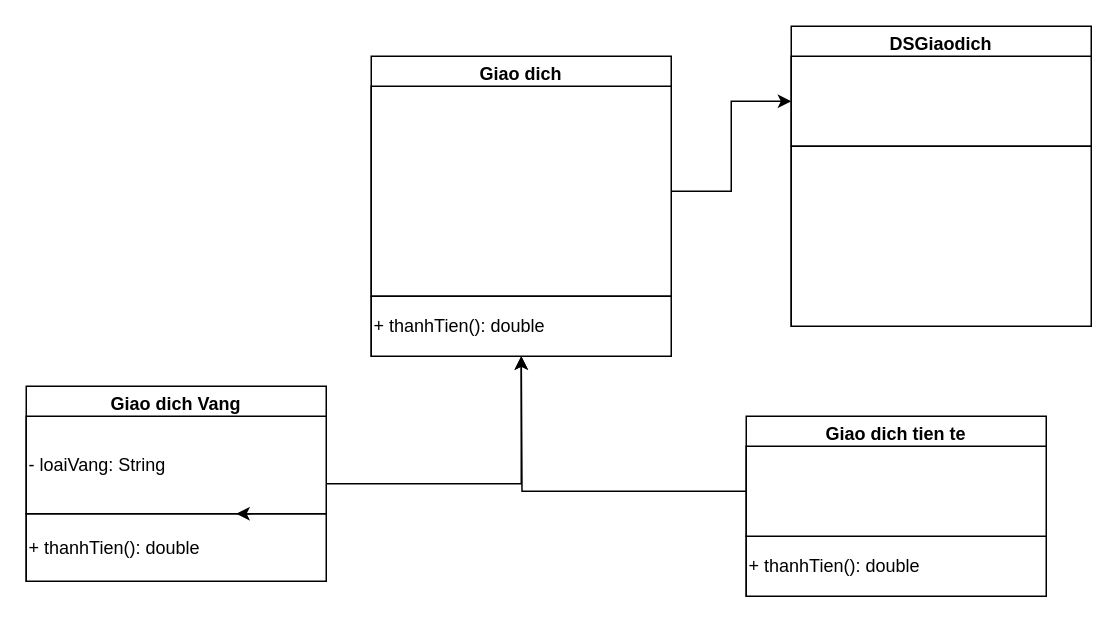
This 1118x623 diagram has some shape labels left out. The shapes that lost their labels are listed below. From the top down, each one's box as (x1, y1, x2, y2) in pixels, then its label:
(790, 55, 1091, 146): - list ArrayList<Giaodich>
(370, 85, 671, 296): - maGD: String - ngayGD: String - donGia: double - soLuong: int
(790, 145, 1091, 326): +DSGiaoDich() + them() +dsTrenMotTy()
(745, 445, 1046, 536): - tiGia: double - loaiTien: String
